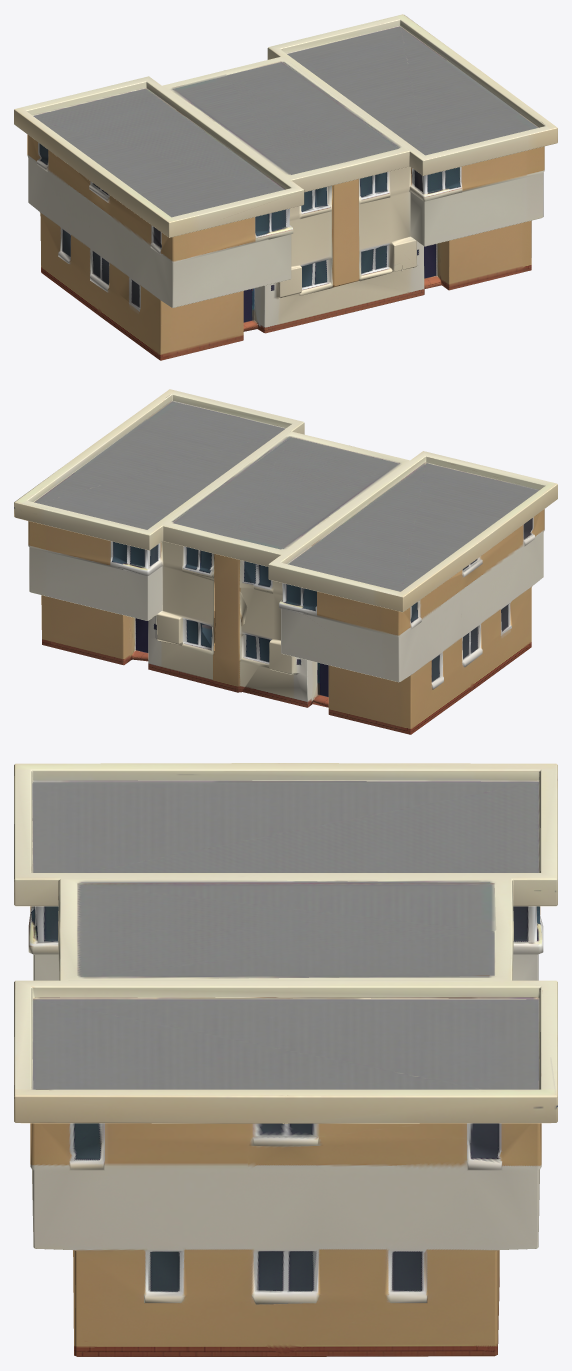
File: bld_556855841.glb
The picture shows the model from 3 angles, top to bottom: view 1: azimuth 30°, elevation 25°; view 2: azimuth 150°, elevation 25°; view 3: azimuth 270°, elevation 25°; orthographic projection. The views are drawn at different scales.
Bounding box in the file's own units: 1.91 × 0.7162 × 1.31.
Materials: 1 (1 with a texture image).
